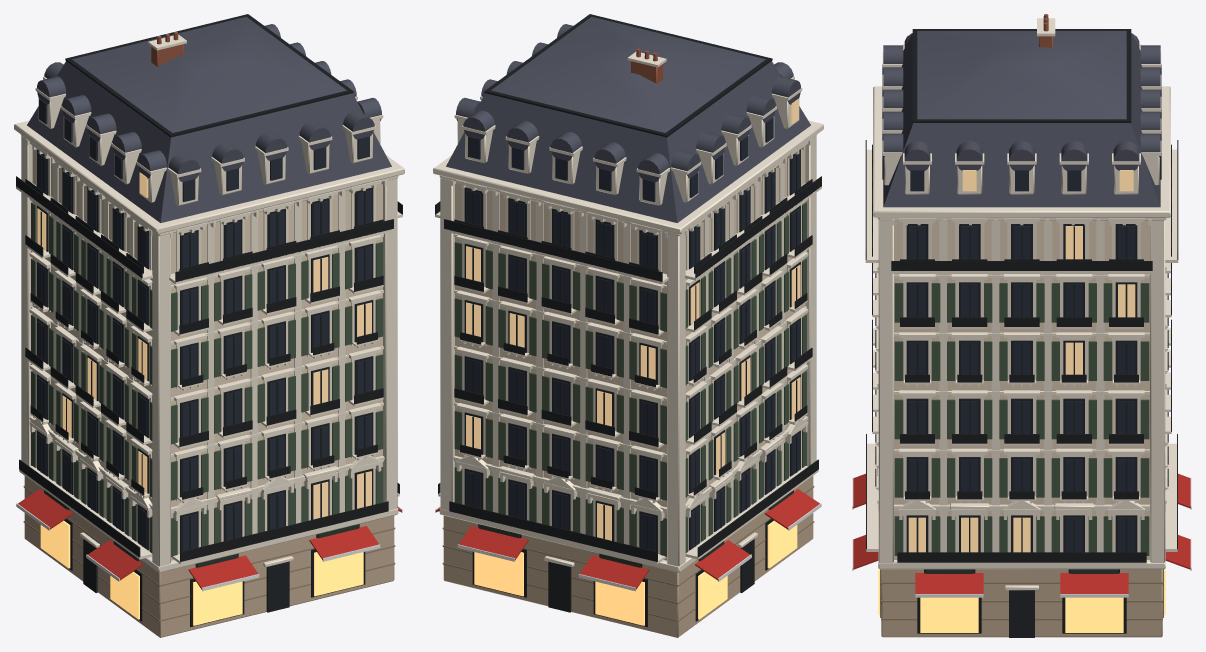
File: building_c.fbx
3 views of the same model, side by side, from view 1: azimuth 30°, elevation 25°; view 2: azimuth 150°, elevation 25°; view 3: azimuth 270°, elevation 25° (orthographic). The views are drawn at different scales.
Visible parts, largest first — view 1: building_c; view 2: building_c; view 3: building_c.
Boxes of the visible parts, box(x1,y1,x2,y2) form: building_c: box(14, 14, 404, 637); building_c: box(433, 14, 823, 637); building_c: box(852, 14, 1191, 637).
Bounding box in the file's own units: 16.89 × 29.85 × 16.89.
